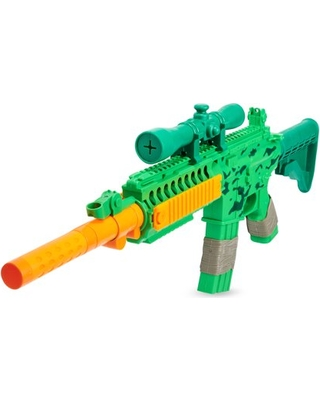Arma Falsa: (2, 100, 320, 296)
